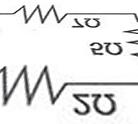resistor: (0, 59, 67, 113), (11, 3, 70, 29)
